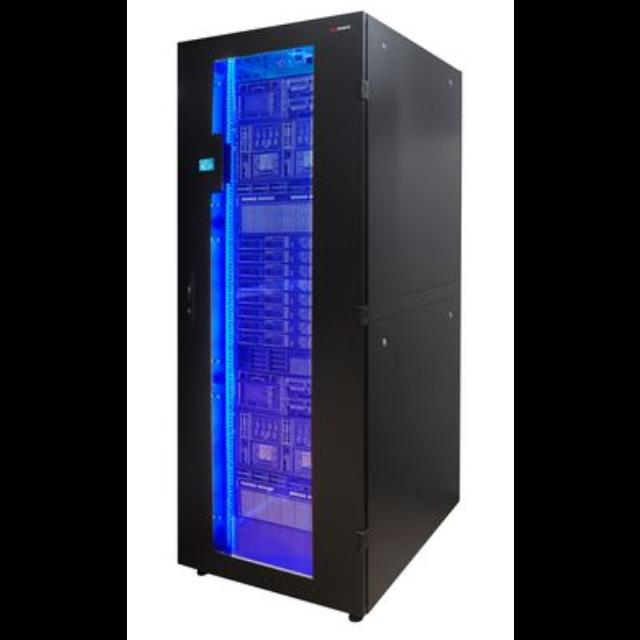Server: (170, 12, 468, 624)
